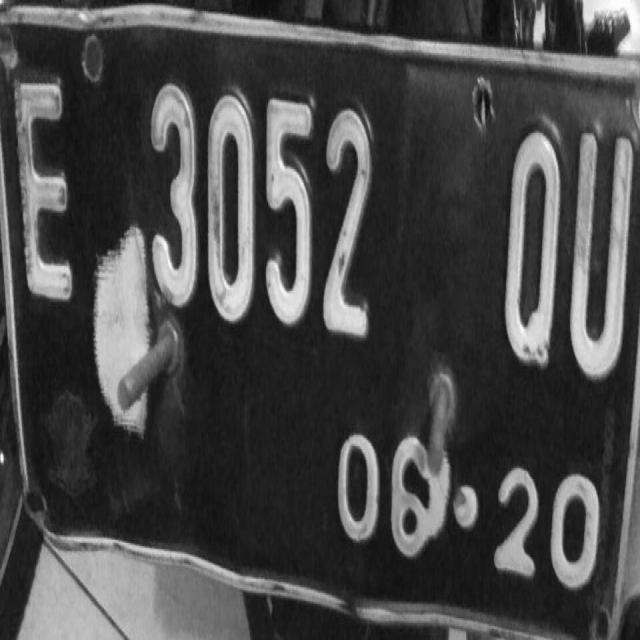license-plat: (4, 19, 640, 634)
